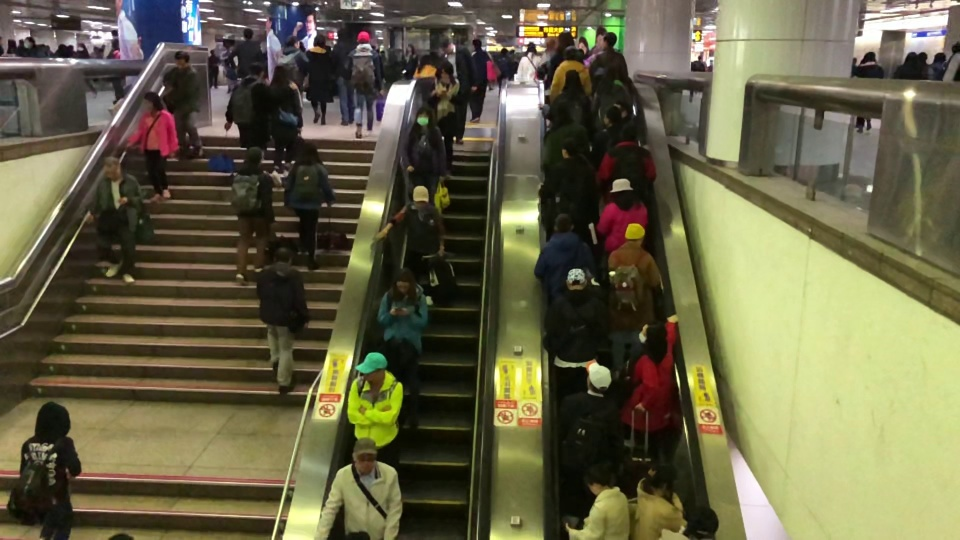person_head: (35, 400, 70, 440), (349, 436, 378, 473), (686, 505, 719, 537), (584, 360, 612, 396), (355, 351, 387, 382), (648, 462, 676, 495), (637, 320, 667, 346), (585, 464, 609, 494), (393, 266, 414, 295), (610, 178, 634, 202), (564, 267, 587, 290), (563, 68, 583, 93), (103, 154, 122, 180), (559, 136, 580, 159), (624, 222, 646, 243), (297, 141, 318, 162), (602, 104, 622, 126), (143, 90, 163, 111), (415, 105, 434, 127), (411, 184, 429, 207), (246, 60, 266, 80), (554, 213, 574, 233), (612, 127, 635, 144), (271, 62, 290, 82), (554, 103, 571, 124), (246, 146, 263, 166), (274, 246, 292, 264), (557, 31, 573, 51), (601, 31, 618, 49), (603, 62, 621, 79), (438, 61, 454, 80), (564, 45, 582, 60), (438, 36, 454, 52), (174, 50, 189, 66), (903, 51, 919, 66), (860, 50, 877, 64), (356, 29, 371, 44), (312, 32, 326, 47), (336, 28, 350, 43), (285, 35, 301, 48), (242, 26, 253, 41), (471, 38, 482, 51), (933, 52, 944, 64), (24, 37, 34, 48), (76, 42, 86, 52), (405, 42, 414, 52), (527, 43, 535, 53), (499, 47, 507, 56), (112, 40, 118, 48), (209, 48, 214, 55), (697, 53, 701, 60)
person_vbox: (5, 400, 83, 540), (313, 435, 404, 540), (376, 265, 430, 431), (373, 184, 445, 305), (541, 267, 608, 396), (607, 222, 661, 379), (620, 313, 679, 447), (256, 246, 309, 395), (86, 155, 144, 281), (282, 141, 337, 271), (559, 360, 623, 470), (346, 352, 404, 463), (230, 145, 274, 288), (125, 90, 179, 205), (532, 213, 596, 299), (562, 462, 630, 540), (398, 105, 448, 204), (594, 126, 657, 204), (159, 50, 204, 158), (537, 135, 596, 216), (223, 60, 273, 152), (595, 178, 649, 261), (270, 62, 304, 189), (347, 29, 385, 140), (438, 36, 476, 143), (635, 461, 685, 540), (428, 60, 461, 179), (591, 105, 649, 163), (542, 102, 590, 167), (538, 69, 591, 126), (305, 33, 335, 126), (591, 61, 633, 126), (548, 46, 592, 105), (855, 51, 883, 135), (332, 28, 355, 126), (589, 32, 628, 89), (470, 38, 495, 125), (227, 27, 263, 79), (278, 35, 309, 88), (547, 30, 577, 84), (76, 43, 98, 98), (106, 39, 124, 104), (517, 42, 542, 83), (894, 51, 924, 81), (497, 47, 512, 94), (20, 36, 44, 58), (404, 42, 418, 79), (929, 52, 946, 80), (208, 49, 220, 87), (693, 56, 705, 73)
